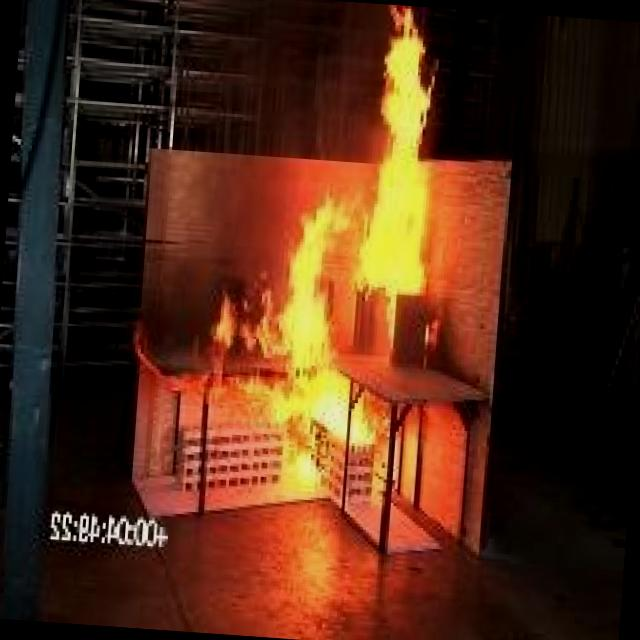fire: (296, 0, 483, 353), (247, 189, 376, 530)
